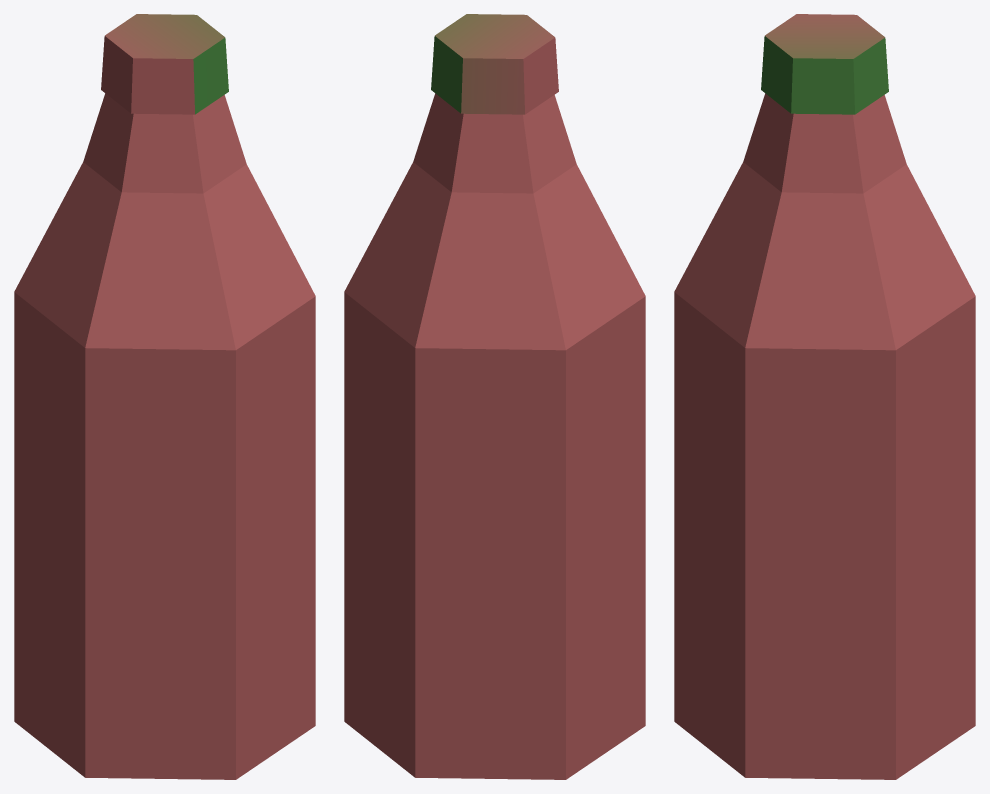
The model's file is Bathroom2_bottle2.fbx.
3 renders of one model, left to right at view 1: azimuth 30°, elevation 25°; view 2: azimuth 150°, elevation 25°; view 3: azimuth 270°, elevation 25°, orthographic.
Visible parts, largest first — view 1: Bathroom2_bottle2; view 2: Bathroom2_bottle2; view 3: Bathroom2_bottle2.
Boxes of the visible parts, x1=… form: Bathroom2_bottle2: x1=14, y1=14, x2=315, y2=779; Bathroom2_bottle2: x1=344, y1=14, x2=645, y2=779; Bathroom2_bottle2: x1=674, y1=14, x2=975, y2=779.
Bounding box in the file's own units: 8.65 × 24.63 × 9.8.
